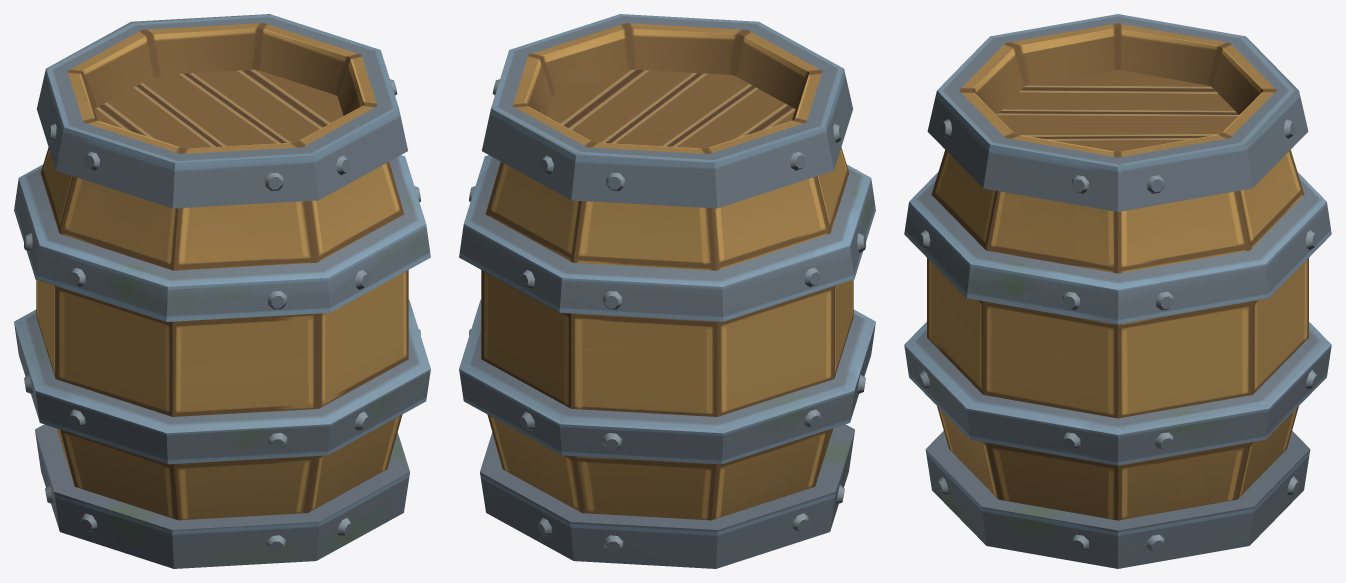
File: objeto.glb
3 views of the same model, side by side, from view 1: azimuth 30°, elevation 25°; view 2: azimuth 150°, elevation 25°; view 3: azimuth 270°, elevation 25° (orthographic).
Parts seen in each view (by area): view 1: asset_barril; view 2: asset_barril; view 3: asset_barril.
Boxes of the visible parts, x1=… form: asset_barril: x1=14, y1=14, x2=430, y2=568; asset_barril: x1=459, y1=14, x2=875, y2=568; asset_barril: x1=904, y1=14, x2=1331, y2=568.
Size of the model in its own units: 1.55 by 1.6 by 1.55.
1 material, 1 textured.
